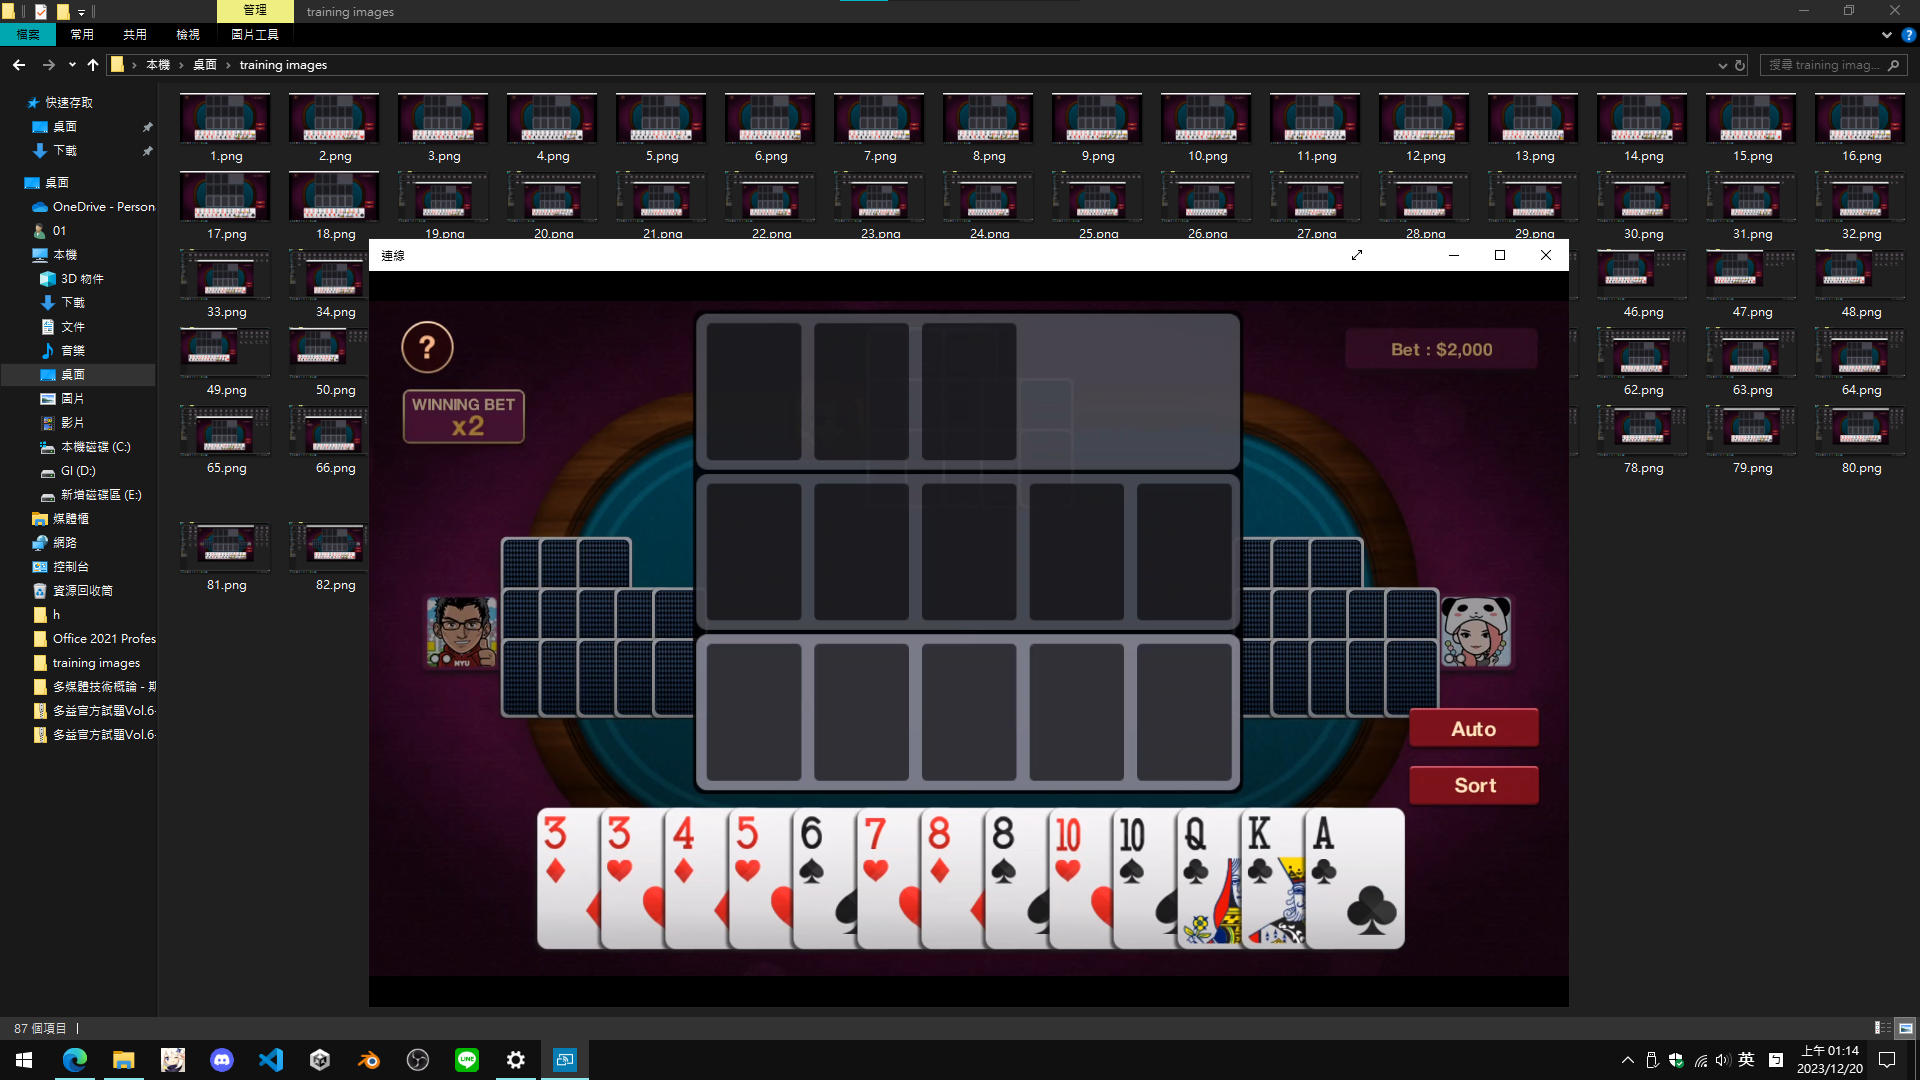10H: (1052, 812, 1085, 886)
10S: (1116, 814, 1149, 891)
3D: (542, 812, 570, 887)
3H: (604, 812, 634, 885)
4D: (671, 812, 696, 887)
5H: (729, 812, 762, 886)
6S: (796, 814, 827, 890)
7H: (860, 814, 891, 886)
8D: (926, 814, 955, 886)
8S: (988, 812, 1022, 889)
AC: (1309, 815, 1340, 890)
KC: (1245, 811, 1275, 887)
QC: (1182, 814, 1211, 891)
